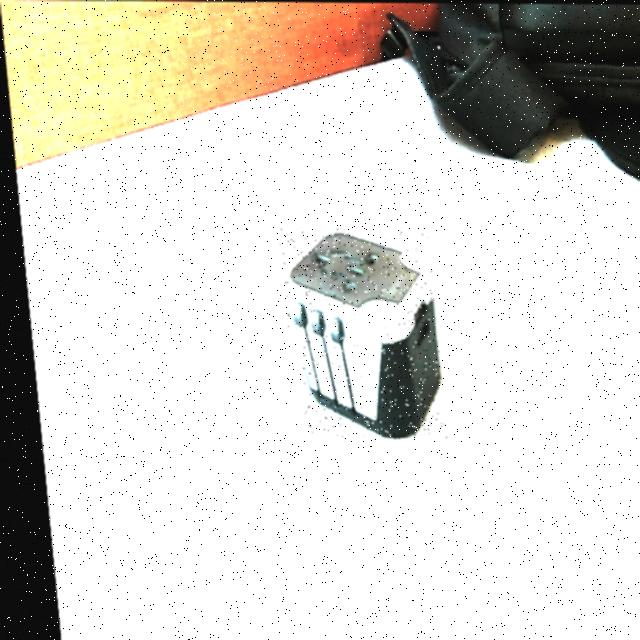adapter: (274, 227, 439, 437)
